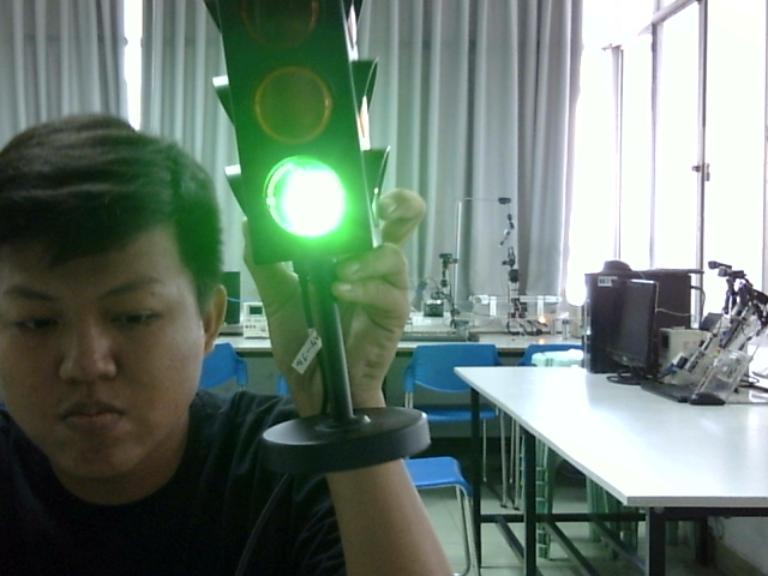green: (249, 140, 361, 258)
